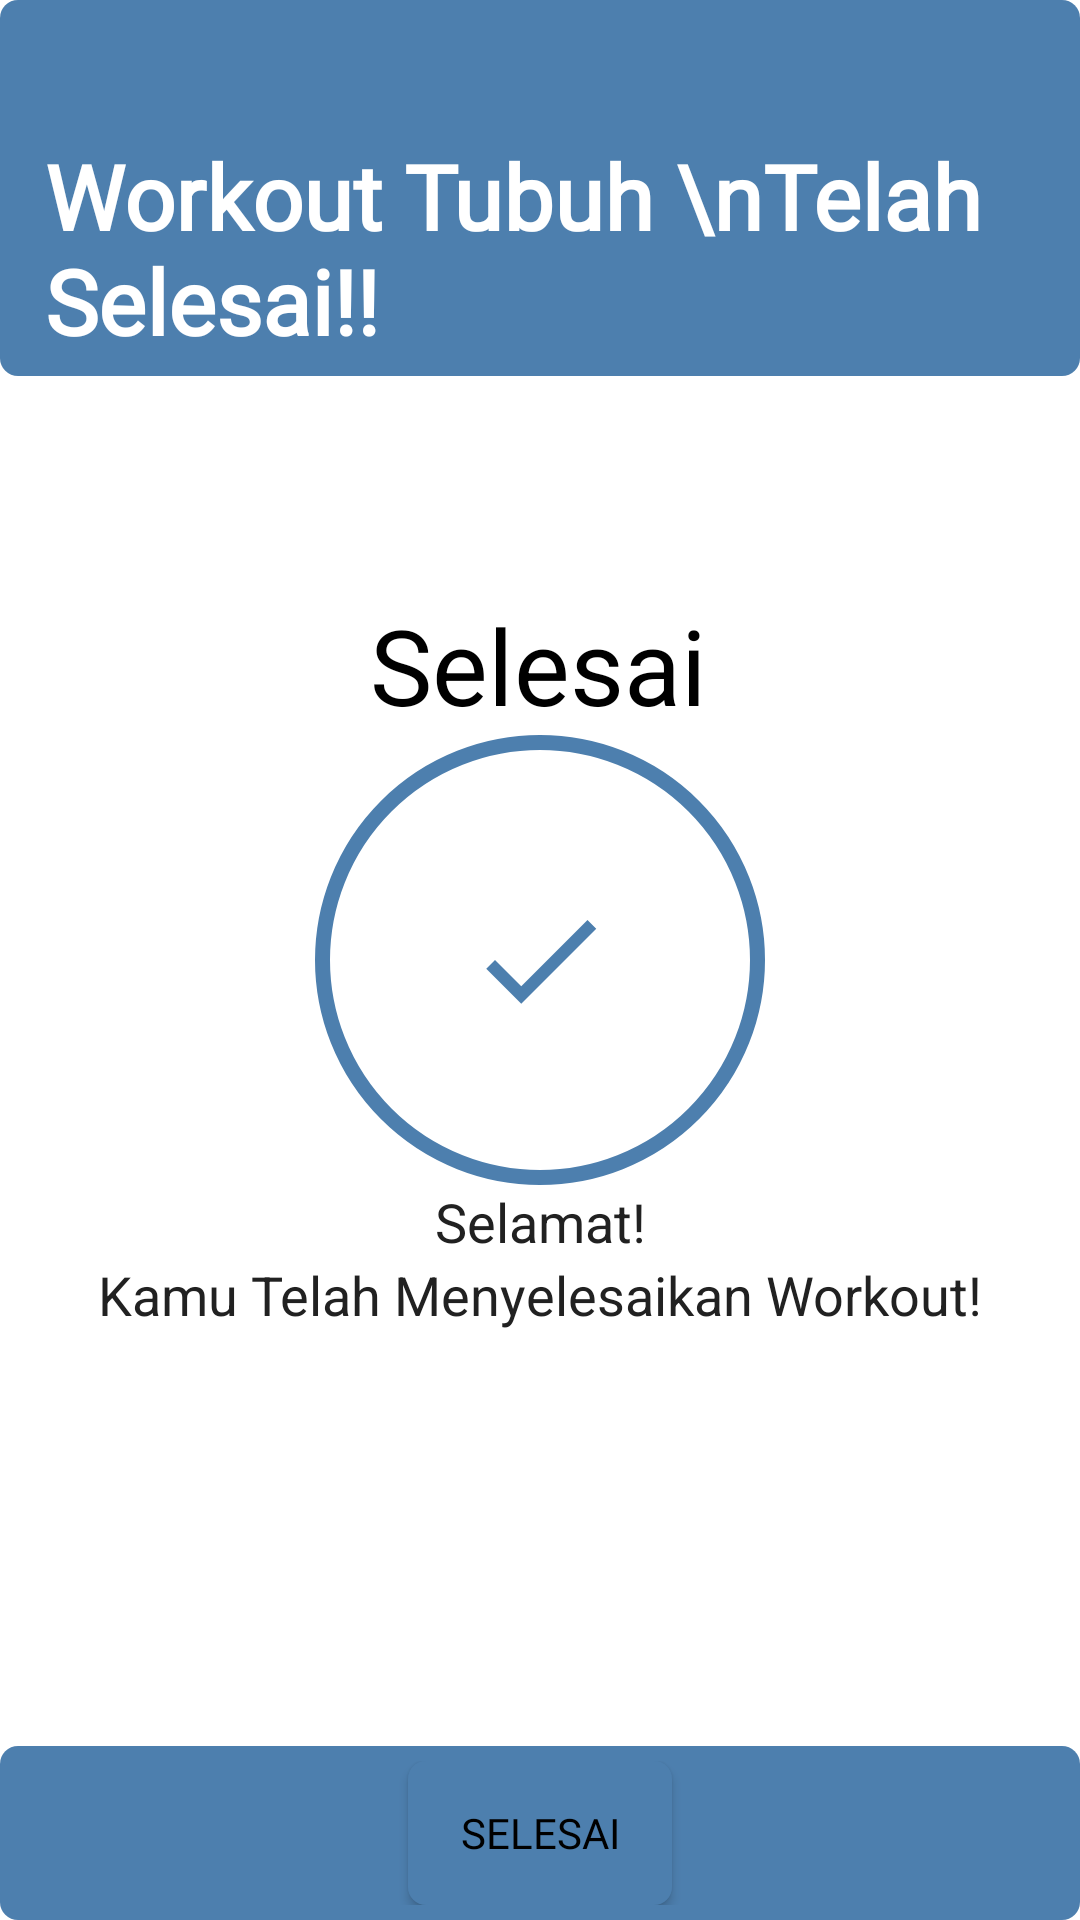

Where icons sit on this 1080×1920 app screen, as (x1, y1, x2, y2):
done image: (486, 920, 596, 1004)
